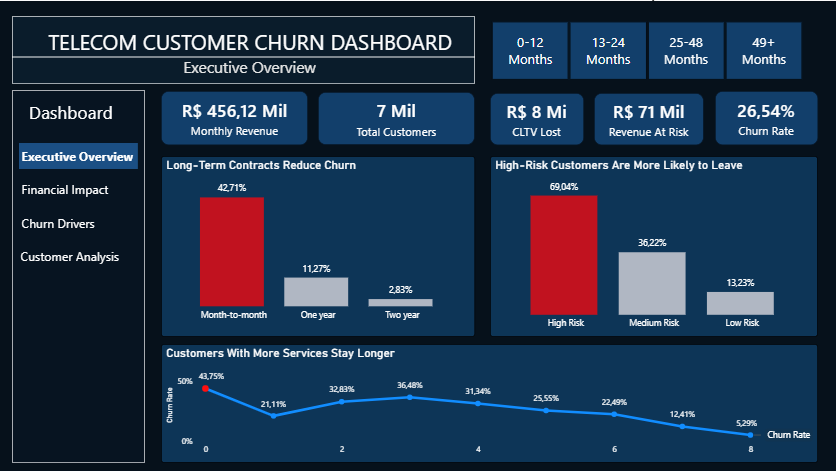

The dashboard page shown, as its layout file describes it:
{"tool":"powerbi","page":{"name":"Executive Overview","canvas":[1280,720],"ordinal":0},"visuals":[{"type":"cardVisual","fields":{"Data":["Medidas.Total Clientes"]},"box":[486.9,139.3,240.4,81.1],"z":0},{"type":"cardVisual","fields":{"Data":["Medidas.Churn Rate"]},"box":[1094.7,137.8,157.7,82.7],"z":1000},{"type":"cardVisual","fields":{"Data":["Medidas.Receita Mensal"]},"box":[246.5,137.8,225.1,82.7],"z":2000},{"type":"cardVisual","fields":{"Data":["Medidas.CLTV Perdido"]},"box":[750.2,140.9,143.9,79.6],"z":3000},{"type":"clusteredColumnChart","title":"Long-Term Contracts Reduce Churn","fields":{"Category":["Telco_customer_churn.Contract"],"Y":["Medidas.Churn Rate"]},"box":[246.5,237.3,480.8,277.1],"z":4000},{"type":"clusteredColumnChart","title":"High-Risk Customers Are More Likely to Leave","fields":{"Category":["Telco_customer_churn.Churn Risk"],"Y":["Medidas.Churn Rate"]},"box":[750.2,237.3,502.2,277.1],"z":5000},{"type":"lineChart","title":"Customers With More Services Stay Longer","fields":{"Category":["Telco_customer_churn.Total Services"],"Y":["Medidas.Churn Rate"]},"box":[246.5,525.2,1005.9,182.2],"z":6000},{"type":"shape","title":"Telecom Customer Churn Dashboard","box":[18.4,23,708.9,104.1],"z":7000},{"type":"textbox","box":[52.1,35.2,661.4,68.9],"z":8000},{"type":"textbox","box":[269.5,79.6,225.1,47.5],"z":9000},{"type":"shape","box":[18.4,70.4,708.9,30.6],"z":10000},{"type":"shape","title":"Customer Retention Analytics","box":[18.4,136.3,203.6,571.1],"z":11000},{"type":"actionButton","box":[29.1,217.4,182.2,39.8],"z":12000},{"type":"actionButton","box":[27.6,370.5,171.5,39.8],"z":13000},{"type":"actionButton","box":[29.1,319.5,147,39.8],"z":14000},{"type":"actionButton","box":[29.1,268.5,147,39.8],"z":15000},{"type":"slicer","fields":{"Values":["Telco_customer_churn.Tenure Category"]},"box":[727.3,24.5,525.2,102.6],"z":16000},{"type":"cardVisual","fields":{"Data":["Medidas.Revenue At Risk"]},"box":[909.5,140.9,168.4,79.6],"z":18000},{"type":"textbox","box":[29.1,147,159.2,49],"z":19000}]}

Visuals, with their boxes in screenshot pixels (x1, y1, x2, y2), scaled from the page's 1280x720 canvas onto the 836x471 screenshot:
cardVisual - Medidas.Total Clientes: l=318, t=91, r=475, b=144
cardVisual - Medidas.Churn Rate: l=715, t=90, r=818, b=144
cardVisual - Medidas.Receita Mensal: l=161, t=90, r=308, b=144
cardVisual - Medidas.CLTV Perdido: l=490, t=92, r=584, b=144
"Long-Term Contracts Reduce Churn" clusteredColumnChart: l=161, t=155, r=475, b=337
"High-Risk Customers Are More Likely to Leave" clusteredColumnChart: l=490, t=155, r=818, b=337
"Customers With More Services Stay Longer" lineChart: l=161, t=344, r=818, b=463
"Telecom Customer Churn Dashboard" shape: l=12, t=15, r=475, b=83
textbox: l=34, t=23, r=466, b=68
textbox: l=176, t=52, r=323, b=83
shape: l=12, t=46, r=475, b=66
"Customer Retention Analytics" shape: l=12, t=89, r=145, b=463
actionButton: l=19, t=142, r=138, b=168
actionButton: l=18, t=242, r=130, b=268
actionButton: l=19, t=209, r=115, b=235
actionButton: l=19, t=176, r=115, b=202
slicer - Telco_customer_churn.Tenure Category: l=475, t=16, r=818, b=83
cardVisual - Medidas.Revenue At Risk: l=594, t=92, r=704, b=144
textbox: l=19, t=96, r=123, b=128
